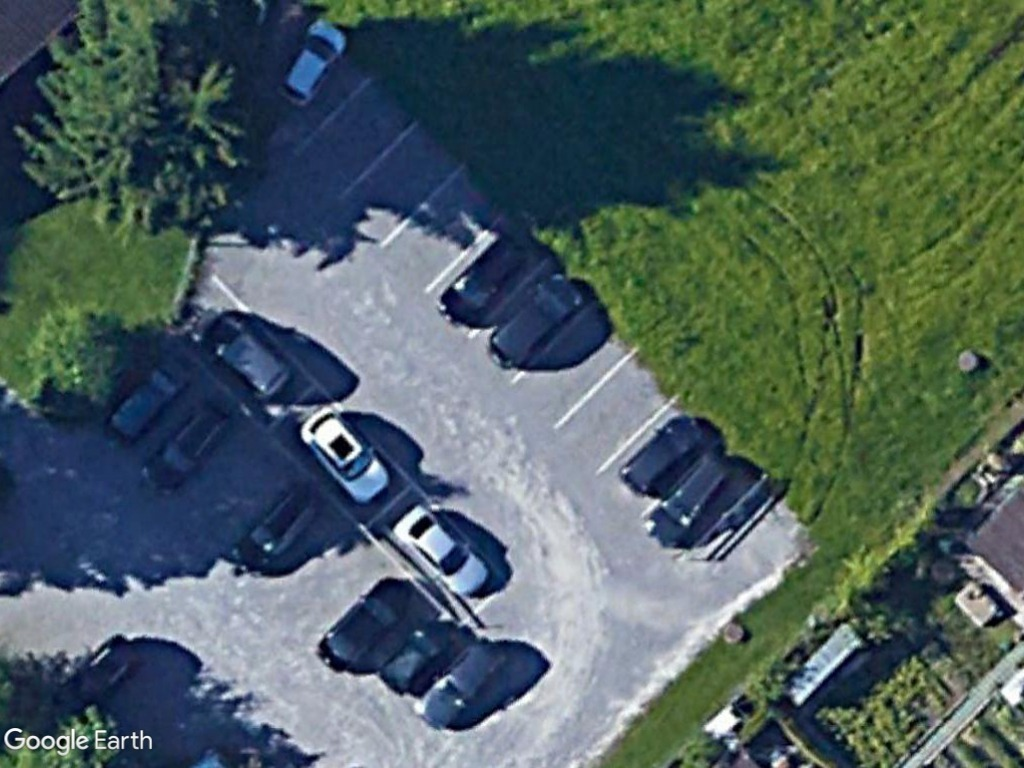car: (296, 404, 393, 508), (389, 502, 492, 598), (271, 16, 348, 109)
